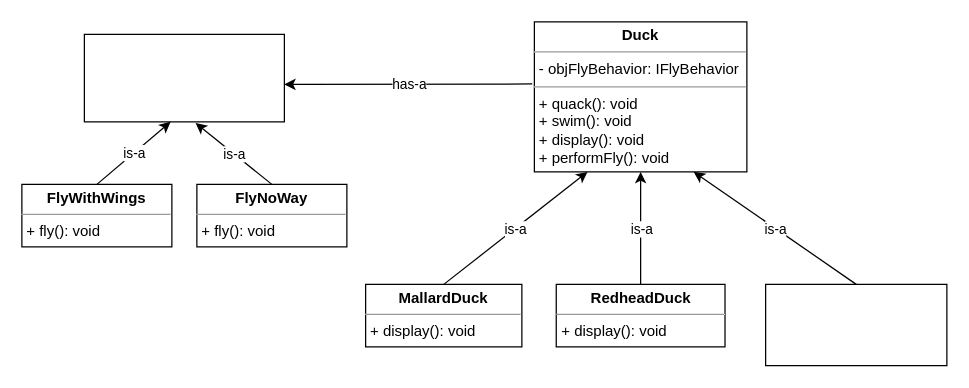
Image size: 969x388. Some labels were removed from this diagram. The shapes that lost their labels are listed below. From the top down, each one's centre as x and y in pixels, then its label:
point (183, 77): <<Interface>> IFlyBehavior + fly(): void
point (855, 324): Rubber Duck + quack(): void + display(): void
